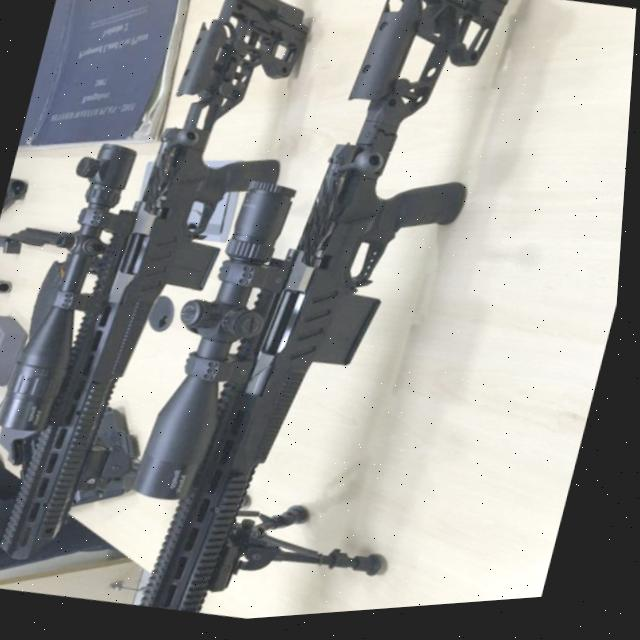firearm: (112, 0, 520, 631), (0, 0, 330, 597)
